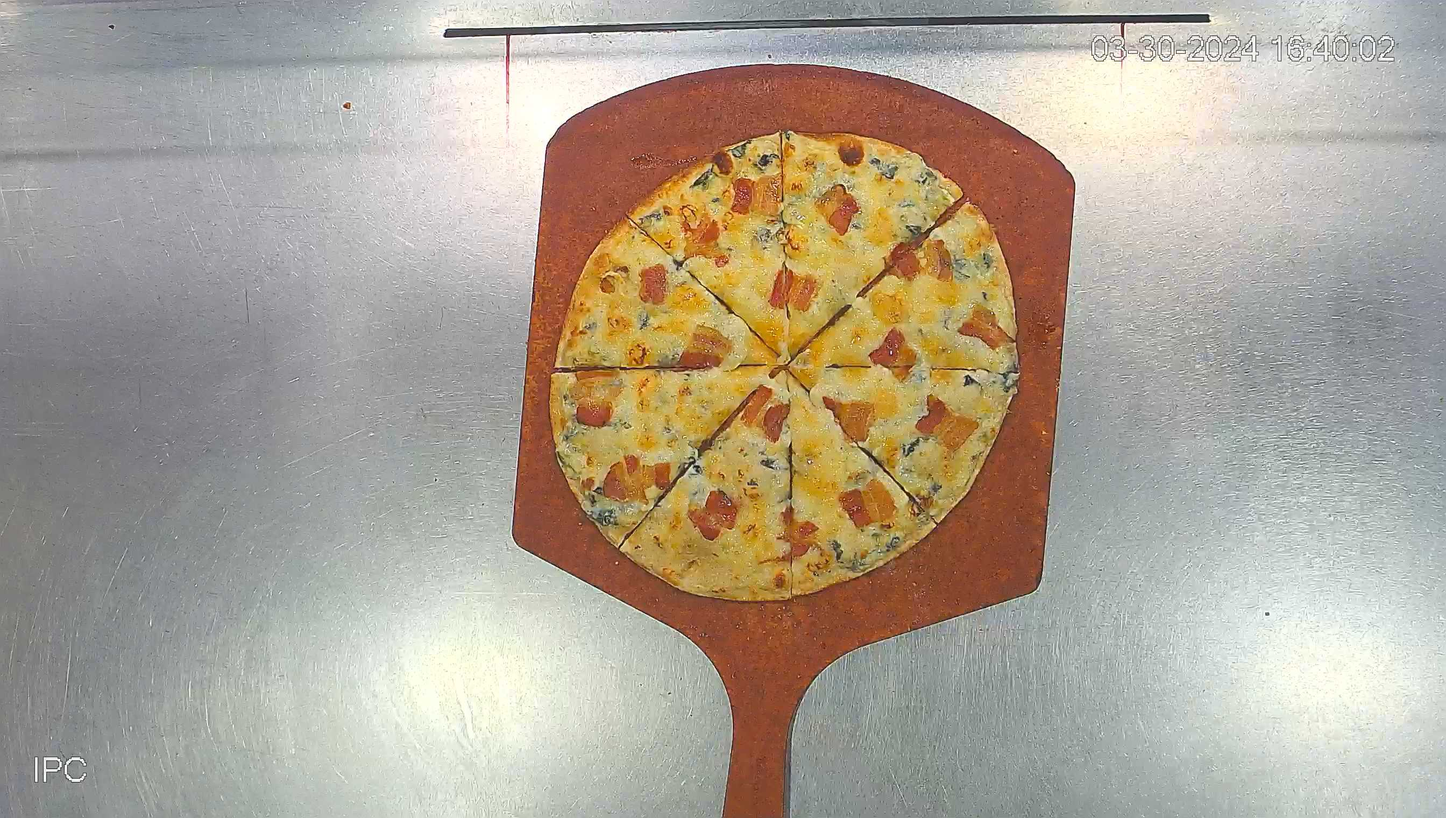pepporoni: (545, 129, 1015, 601)
